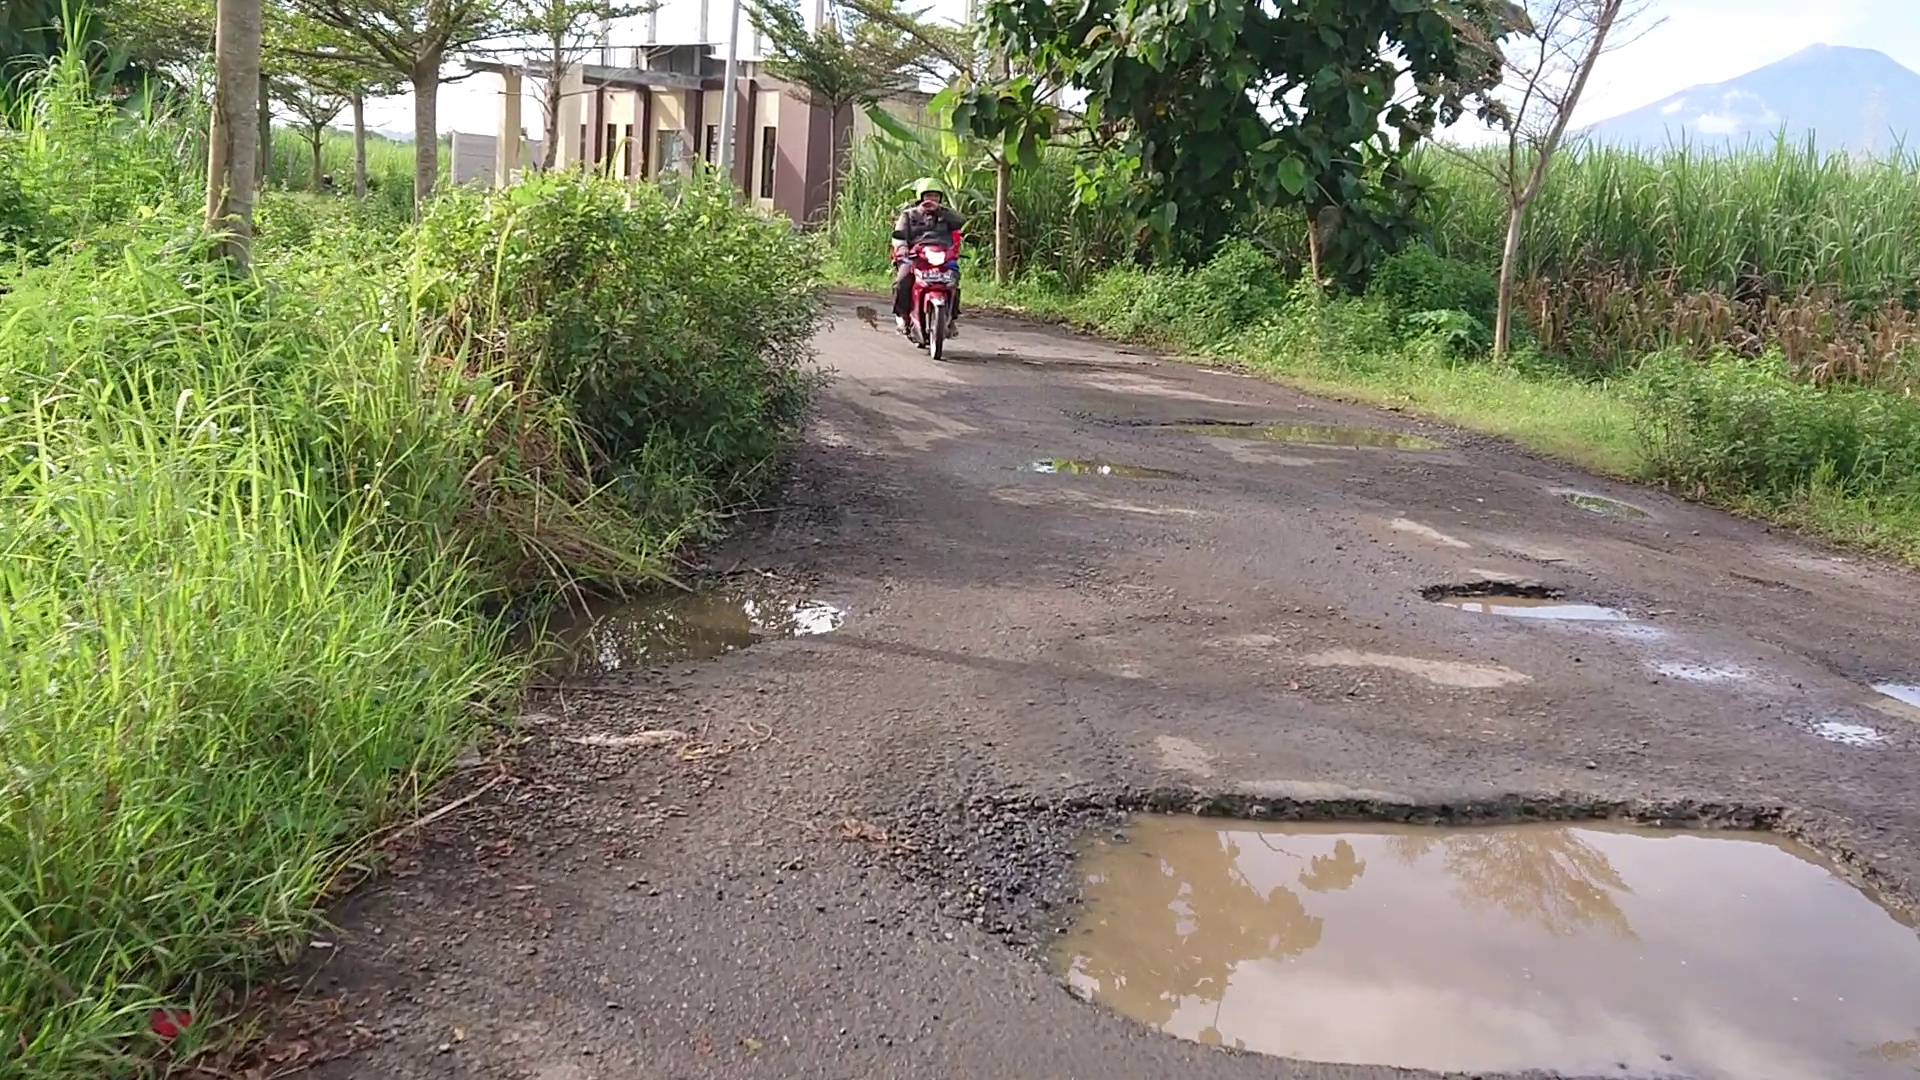Berlubang: (1116, 811, 1898, 1065), (1411, 580, 1631, 629)
